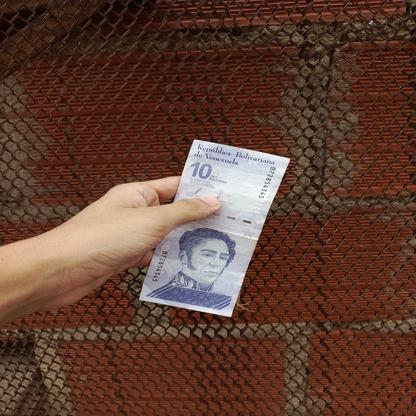ten-front-vef: (140, 139, 289, 316)
